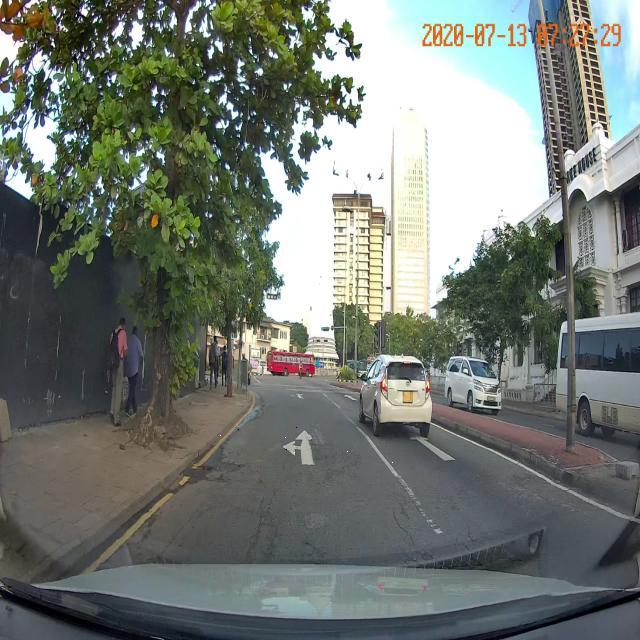forward_lft: (189, 415, 400, 476)
